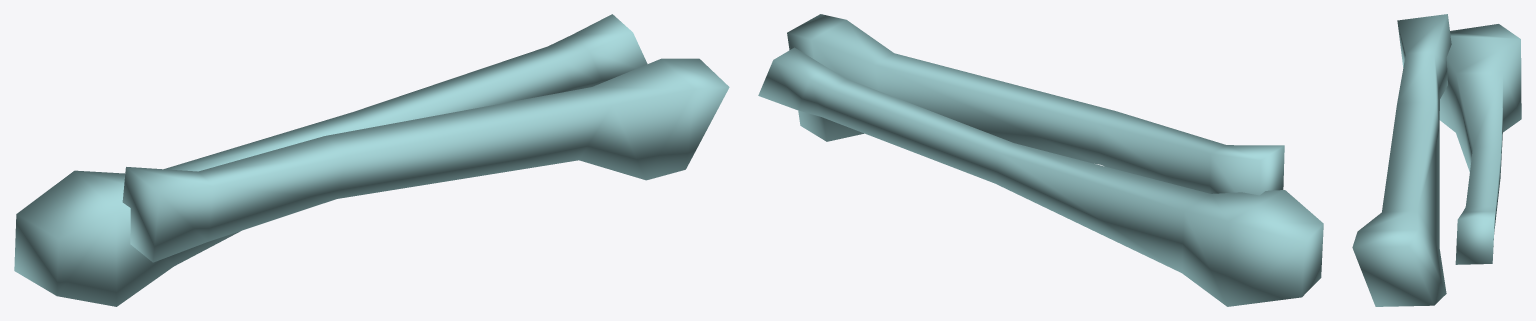
Rendered from Skelly_forearm.L.fbx.
3 renders of one model, left to right at view 1: azimuth 30°, elevation 25°; view 2: azimuth 150°, elevation 25°; view 3: azimuth 270°, elevation 25°, orthographic. The views are drawn at different scales.
Parts seen in each view (by area): view 1: Skelly_forearm.L; view 2: Skelly_forearm.L; view 3: Skelly_forearm.L.
Part boxes in pixels (bbox=[...]): Skelly_forearm.L: bbox=[14, 14, 729, 306]; Skelly_forearm.L: bbox=[758, 14, 1323, 306]; Skelly_forearm.L: bbox=[1352, 14, 1521, 306].
Size of the model in its own units: 27.88 by 5.78 by 7.75.
